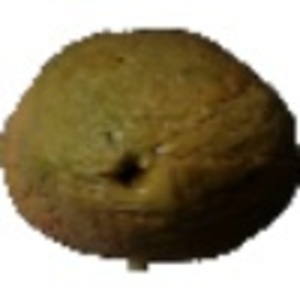mamão: (3, 21, 295, 262)
